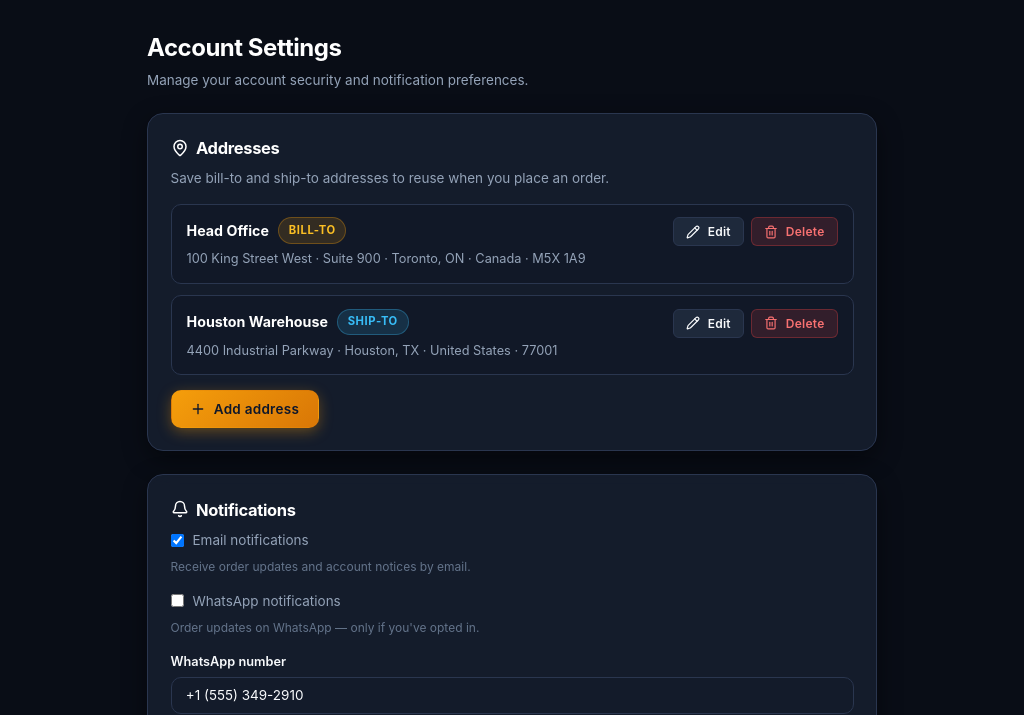
Scenario: Settings addresses manager (v0.5 F3) › edits an existing address
Expected: the text "Head Office" is shown, [186, 220, 269, 241]
Click the button "Edit" in the row of "Head Office".
click(709, 232)  # box [673, 217, 744, 246]
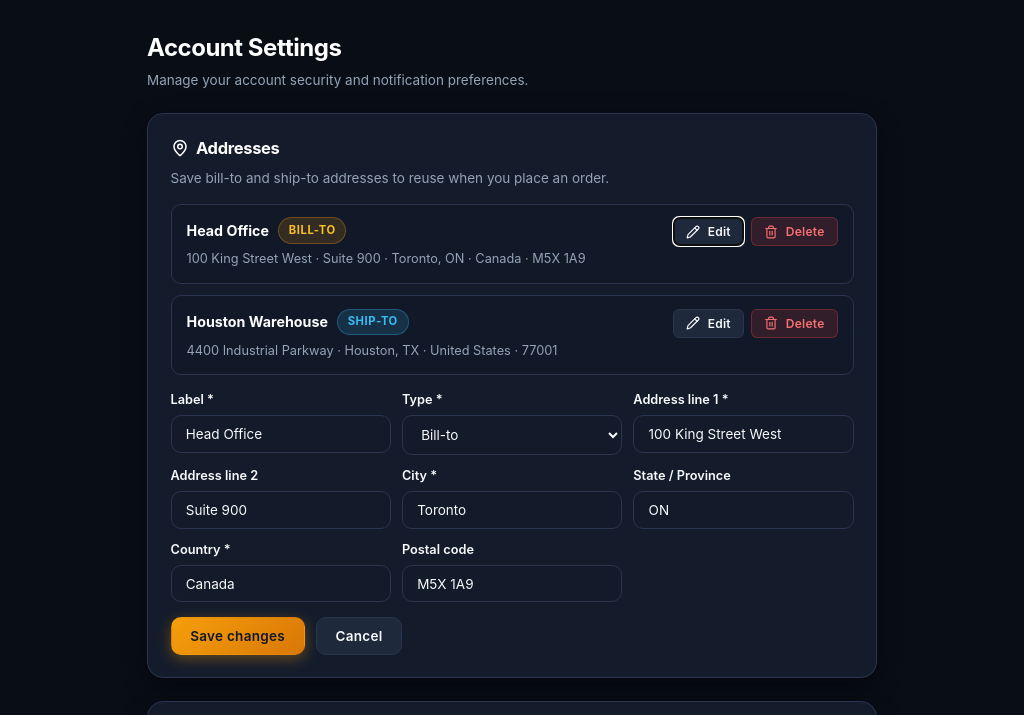
Now the field labelled "City *" holds "Toronto"
Replace the text in the field labelled "City *" with "Ottawa" at (512, 510), box [402, 491, 622, 528]
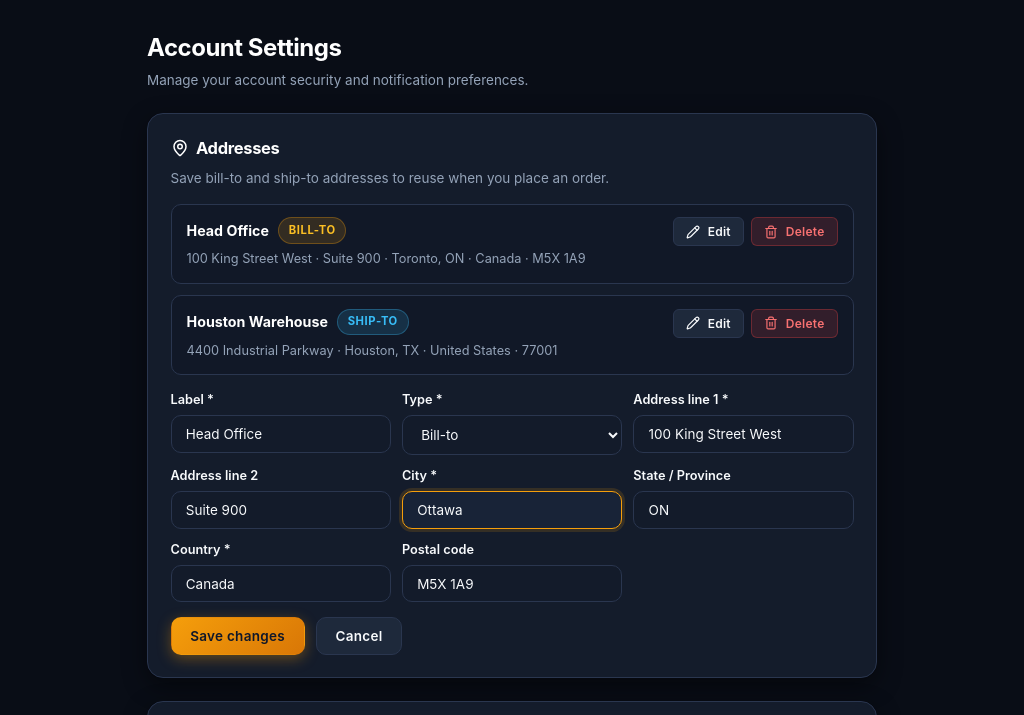
Click the button "Save changes".
click(238, 636)  # box [170, 617, 305, 655]
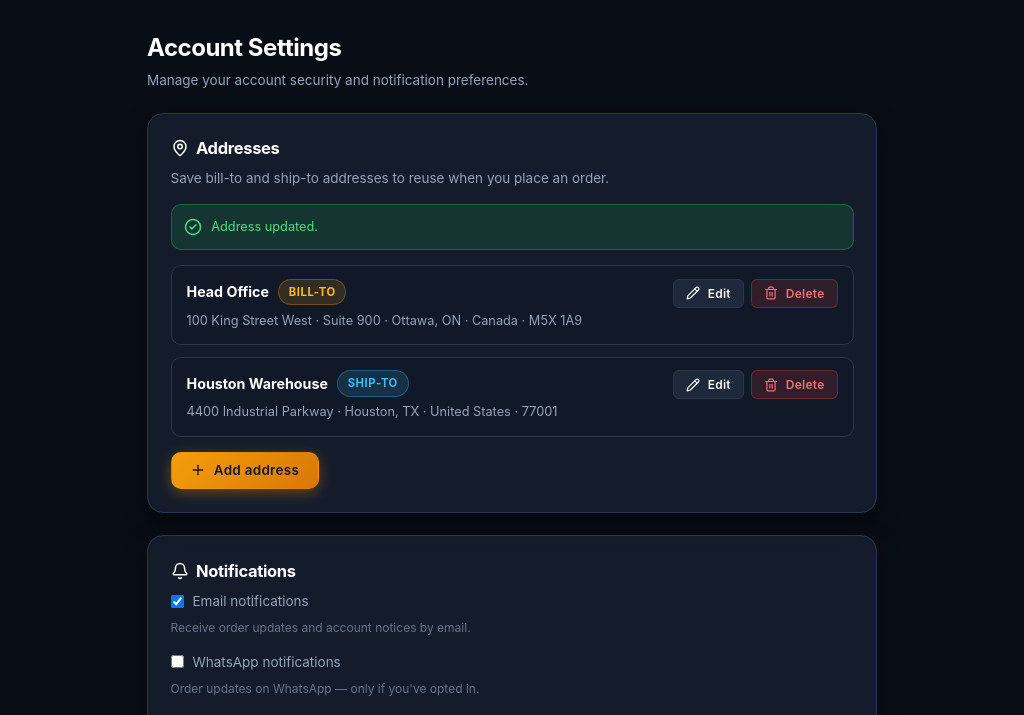
Now the text "Ottawa" is shown, box [186, 313, 582, 328]
Now the text "Address updated." is shown, box [211, 217, 318, 236]
